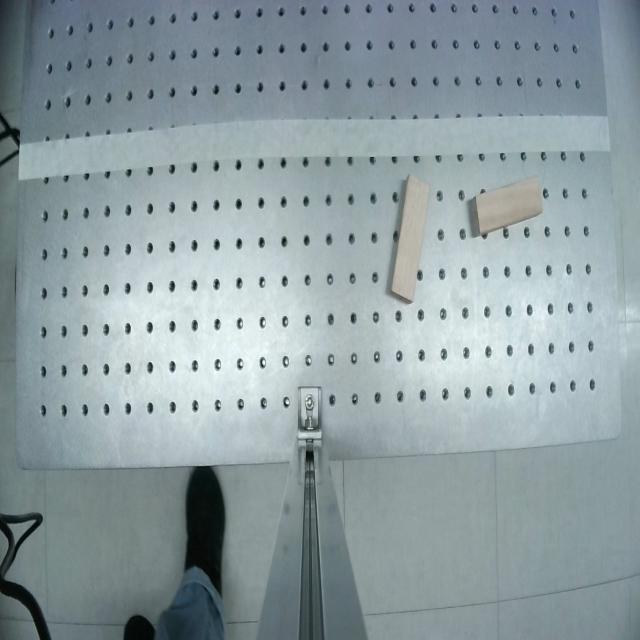wood: (463, 174, 550, 238), (389, 175, 431, 305)
